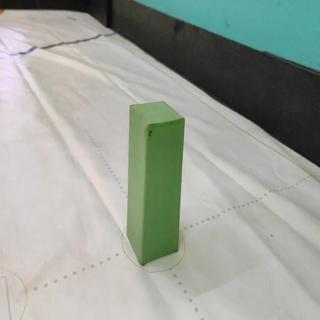greenbox: (125, 100, 186, 266)
